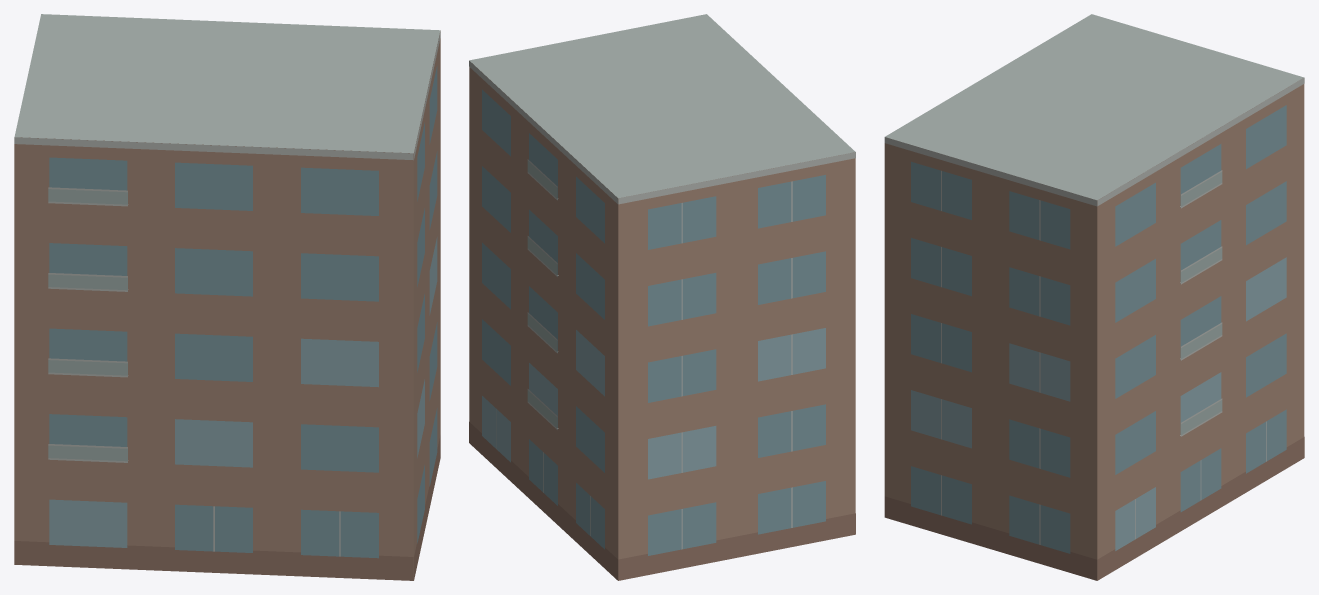
File: survey-upis-32866813.glb
3 views of the same model, side by side, from view 1: azimuth 30°, elevation 25°; view 2: azimuth 150°, elevation 25°; view 3: azimuth 270°, elevation 25° (orthographic). The views are drawn at different scales.
Visible parts, largest first — view 1: survey-upis-32866813.tmp; view 2: survey-upis-32866813.tmp; view 3: survey-upis-32866813.tmp.
Part boxes in pixels (x1,y1,x2,y2): survey-upis-32866813.tmp: (14, 14, 440, 580); survey-upis-32866813.tmp: (469, 14, 855, 580); survey-upis-32866813.tmp: (884, 14, 1304, 580).
Size of the model in its own units: 15.87 by 15.1 by 15.11.
